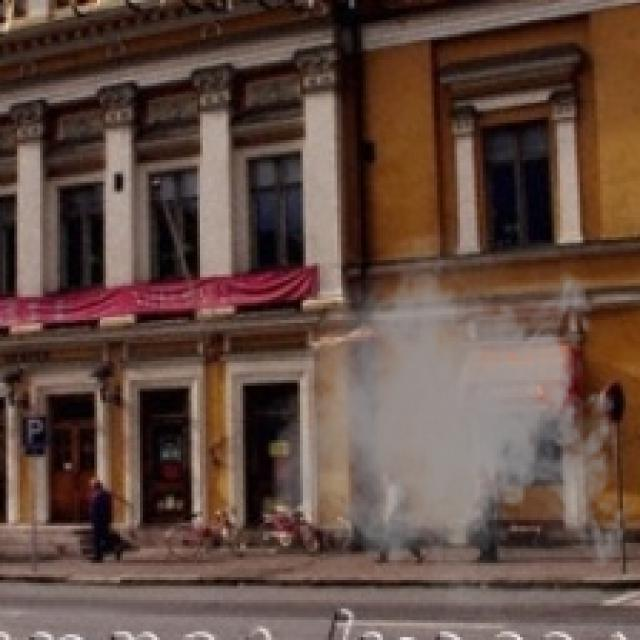smoke: (266, 212, 637, 628)
